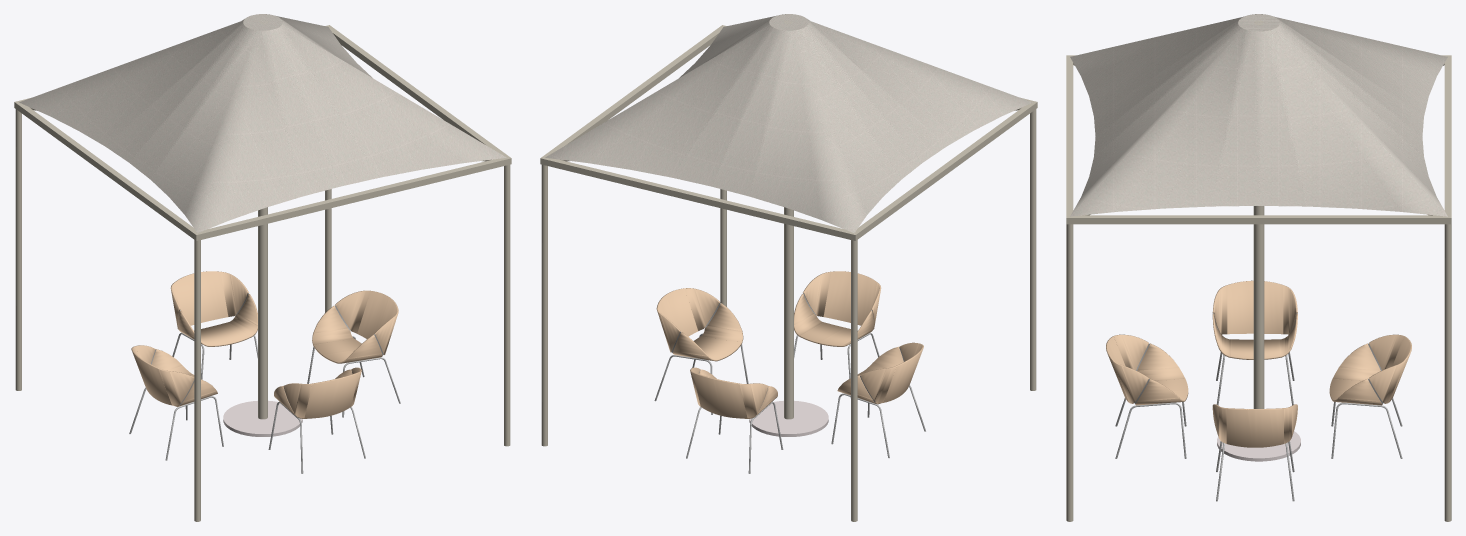
The model's file is UMBRELLA 8.glb.
3 views of the same model, side by side, from view 1: azimuth 30°, elevation 25°; view 2: azimuth 150°, elevation 25°; view 3: azimuth 270°, elevation 25° (orthographic). The views are drawn at different scales.
Visible parts, largest first — view 1: CANOPY, POLES, CHAIRS, CHAIR LEGS; view 2: CANOPY, POLES, CHAIRS, CHAIR LEGS; view 3: CANOPY, CHAIRS, POLES, CHAIR LEGS.
Part boxes in pixels (x1,y1,x2,y2): CANOPY: (19,14,506,233); POLES: (14,20,511,521); CHAIRS: (131,271,398,418); CHAIR LEGS: (129,332,400,473); CANOPY: (545,14,1032,233); POLES: (540,20,1037,521); CHAIRS: (656,271,923,418); CHAIR LEGS: (654,332,925,473); CANOPY: (1070,14,1447,216); CHAIRS: (1106,280,1411,447); POLES: (1066,20,1451,521); CHAIR LEGS: (1115,352,1402,501).
Size of the model in its own units: 2.8 by 3.38 by 2.8.
8 materials, 4 textured.
